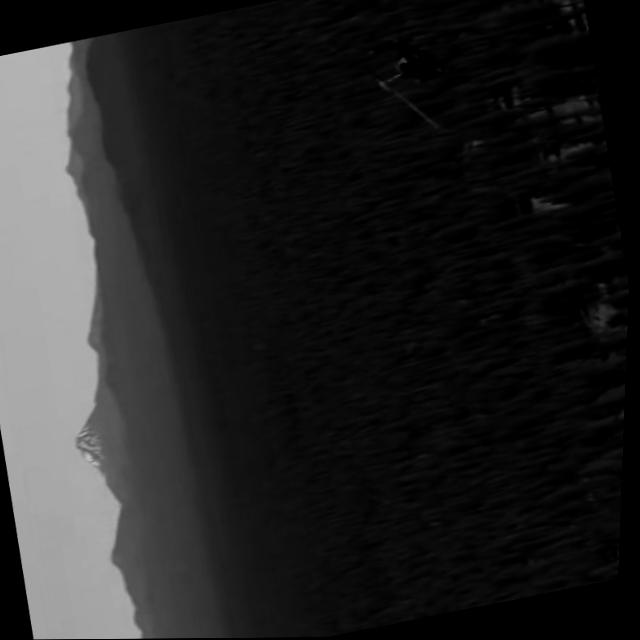helikopter: (343, 17, 477, 154)
